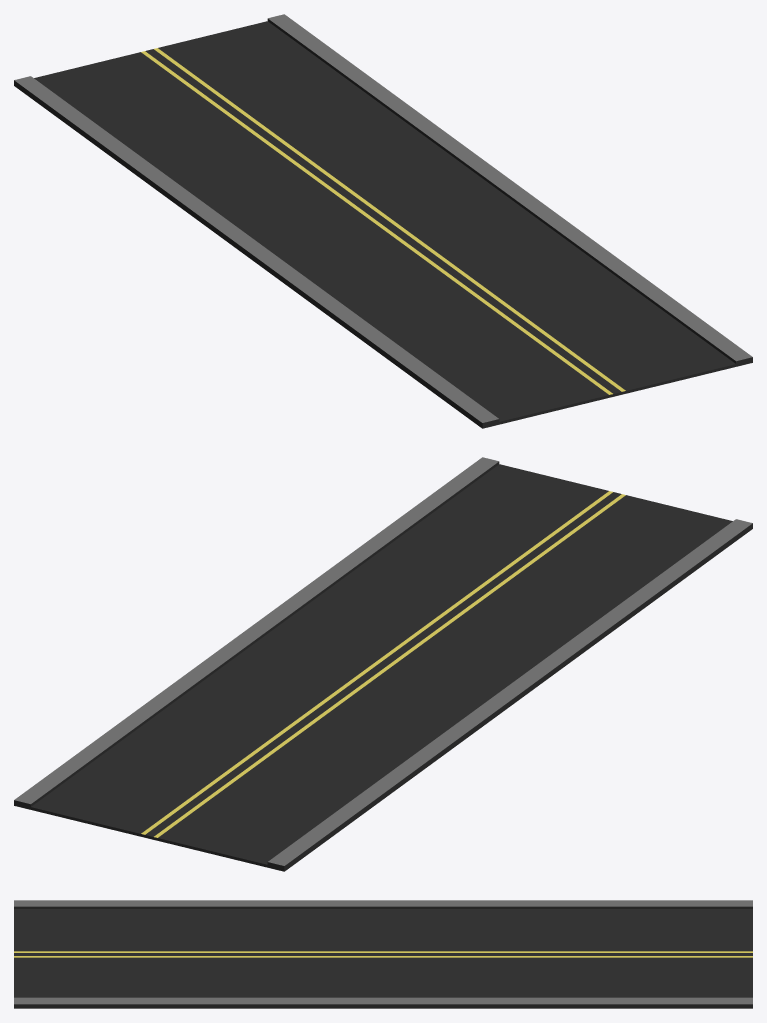
3 renders of one model, top to bottom at view 1: azimuth 30°, elevation 25°; view 2: azimuth 150°, elevation 25°; view 3: azimuth 270°, elevation 25°, orthographic. The views are drawn at different scales.
Visible parts, largest first — view 1: Cube; view 2: Cube; view 3: Cube.
Part boxes in pixels (box(x1,y1,x2,y2)): Cube: box(14, 14, 752, 428); Cube: box(14, 457, 752, 871); Cube: box(14, 900, 752, 1008).
Bounding box in the file's own units: 200 × 4 × 600.
